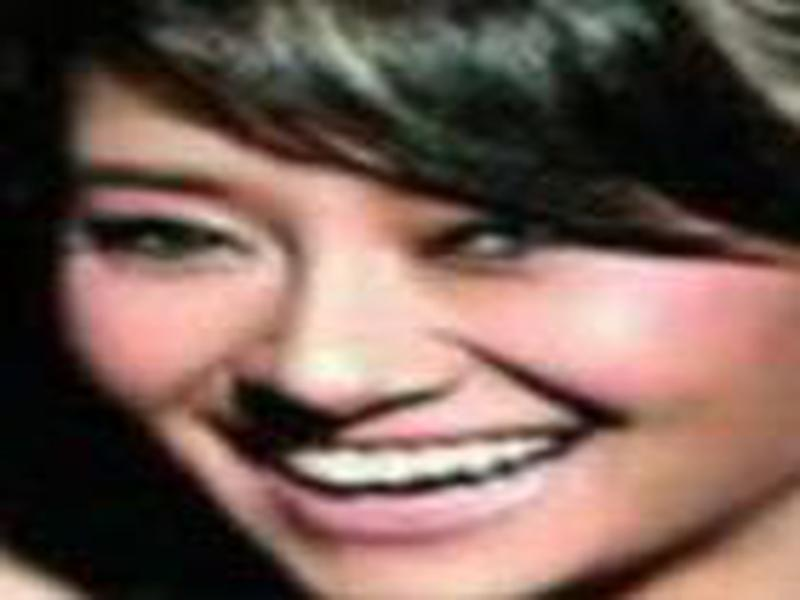without_mask: (63, 89, 783, 600)
